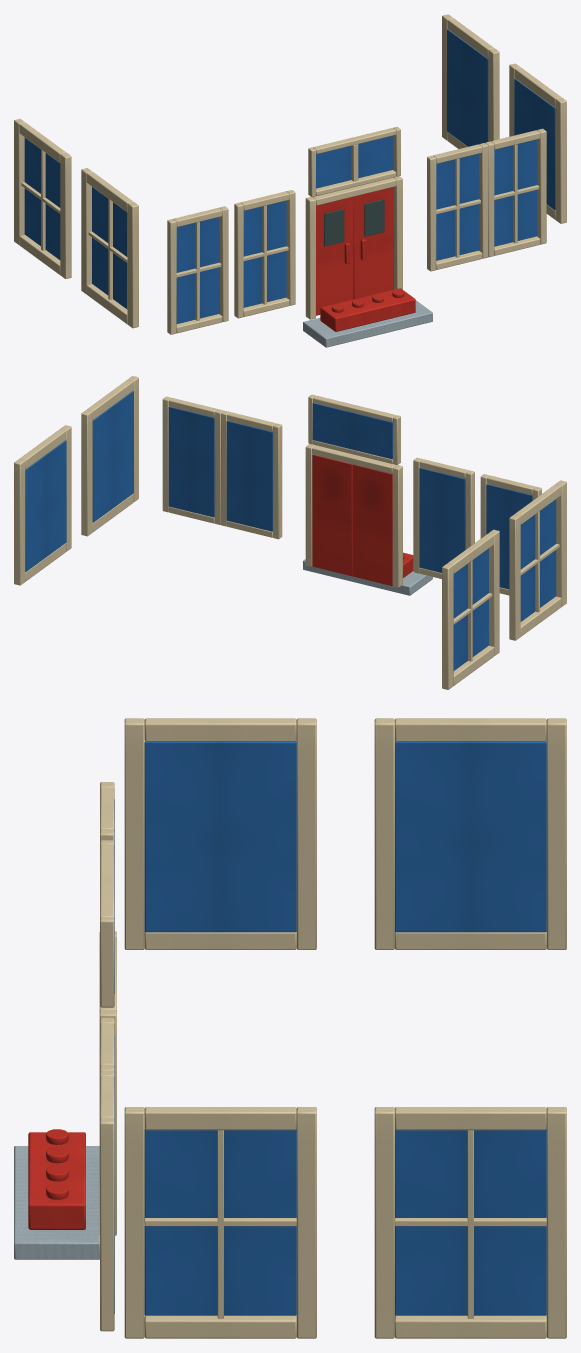
The model's file is 6-windows-double-door-and-step.fbx.
3 views of the same model, one above another, from view 1: azimuth 30°, elevation 25°; view 2: azimuth 150°, elevation 25°; view 3: azimuth 270°, elevation 25° (orthographic). The views are drawn at different scales.
Parts seen in each view (by area): view 1: windows-double-door-and-step; view 2: windows-double-door-and-step; view 3: windows-double-door-and-step.
Part boxes in pixels (x1=…): windows-double-door-and-step: x1=14, y1=14, x2=566, y2=347; windows-double-door-and-step: x1=14, y1=376, x2=566, y2=689; windows-double-door-and-step: x1=14, y1=718, x2=566, y2=1338.
Bounding box in the file's own units: 9710 × 3800 × 5750.
Materials: 1 (1 with a texture image).
